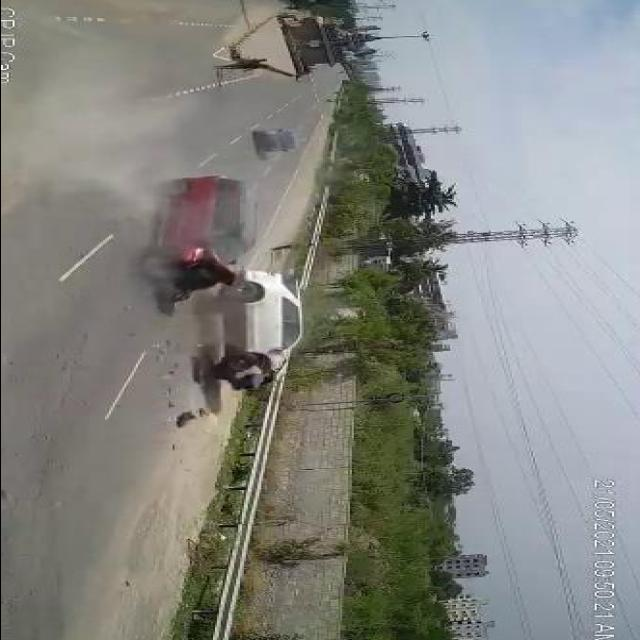accident: (129, 172, 331, 428)
